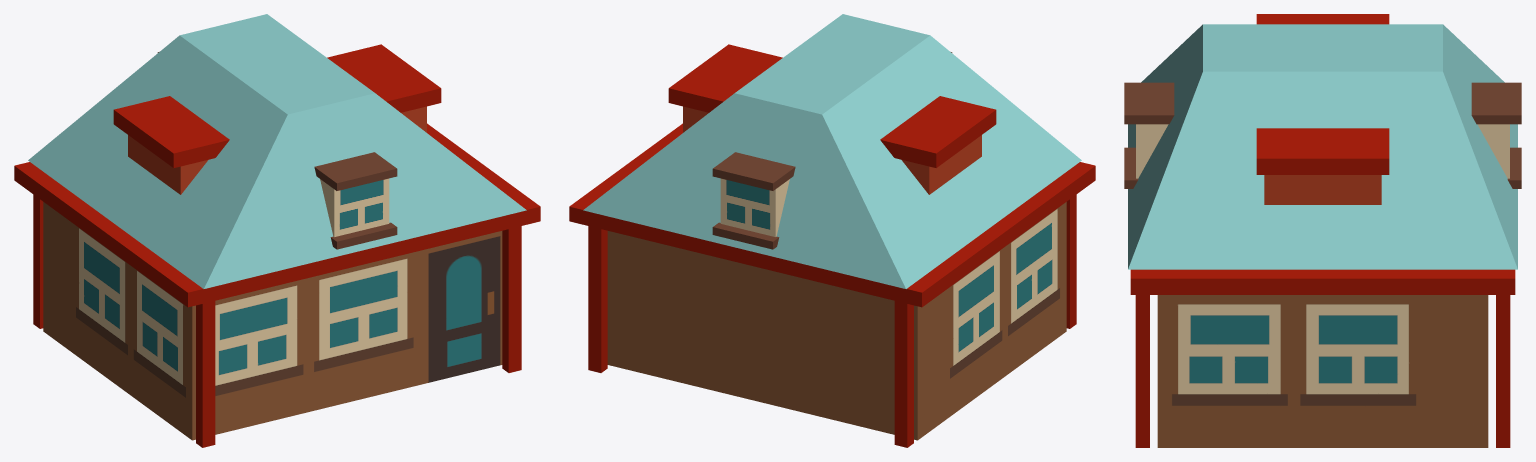
Rendered from Building #21.fbx.
3 views of the same model, side by side, from view 1: azimuth 30°, elevation 25°; view 2: azimuth 150°, elevation 25°; view 3: azimuth 270°, elevation 25° (orthographic). The views are drawn at different scales.
Parts seen in each view (by area): view 1: BuildingC; view 2: BuildingC; view 3: BuildingC.
Boxes of the visible parts, x1,y1,x2,y2 form: BuildingC: [14, 14, 540, 447]; BuildingC: [569, 14, 1095, 447]; BuildingC: [1124, 14, 1521, 447].
Size of the model in its own units: 3057 by 2342 by 2687.
Materials: 1 (1 with a texture image).
